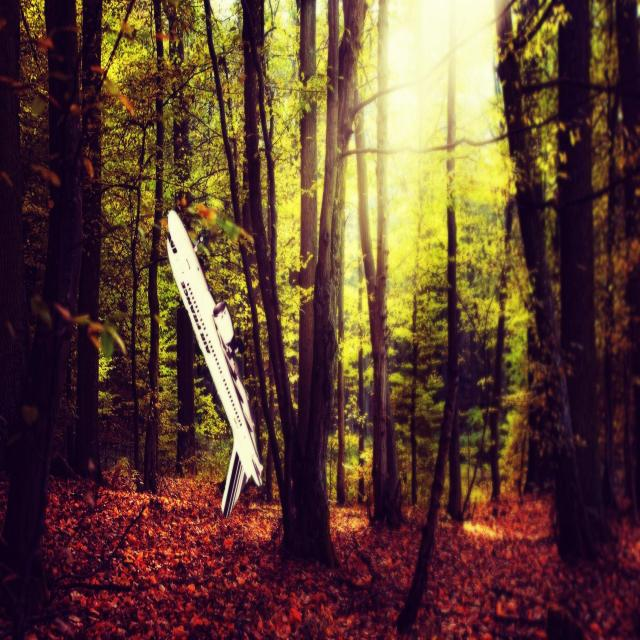airplane: (165, 209, 264, 519)
